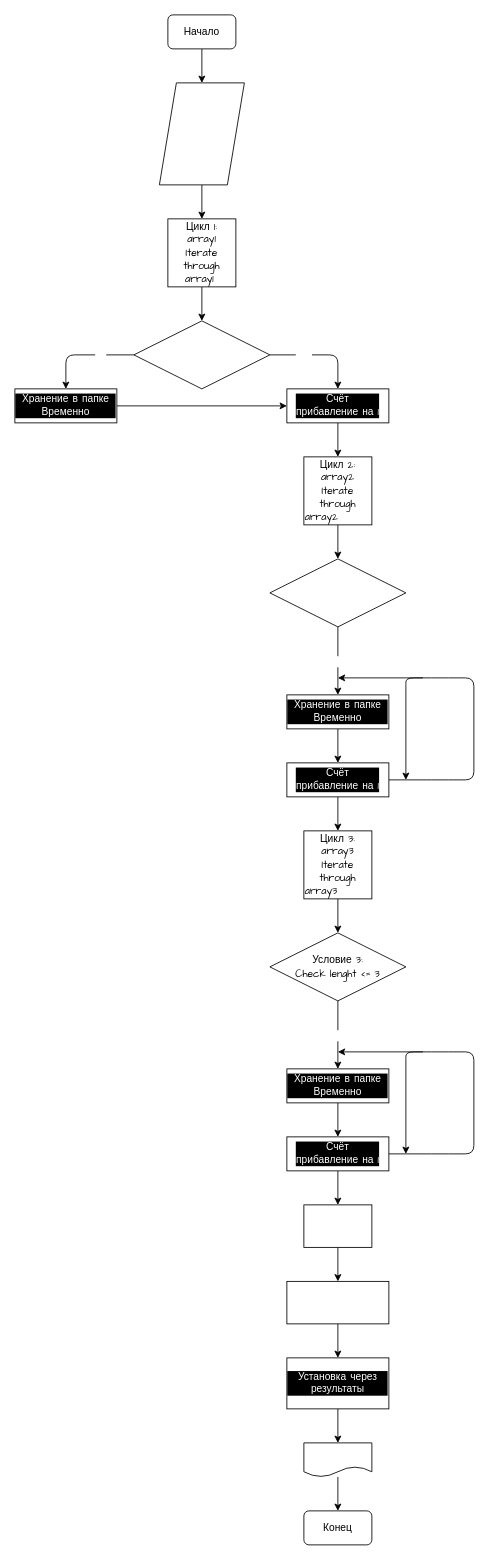
This 496x1560 diagram has some shape labels left out. Each missing label, with the box of its shape:
Выводит все элементы: (303, 1442, 372, 1477)
Копирует значения из Папки Временно в результаты: (286, 1281, 389, 1324)
Результат создание массива: (303, 1204, 372, 1247)
Условие 1: Check lenght <= 3: (133, 320, 270, 389)
Условие 2: Check lenght <= 3: (269, 558, 406, 627)
Установка array1, array2, array3, i = 0, count = 0, temp array: (159, 82, 244, 185)
